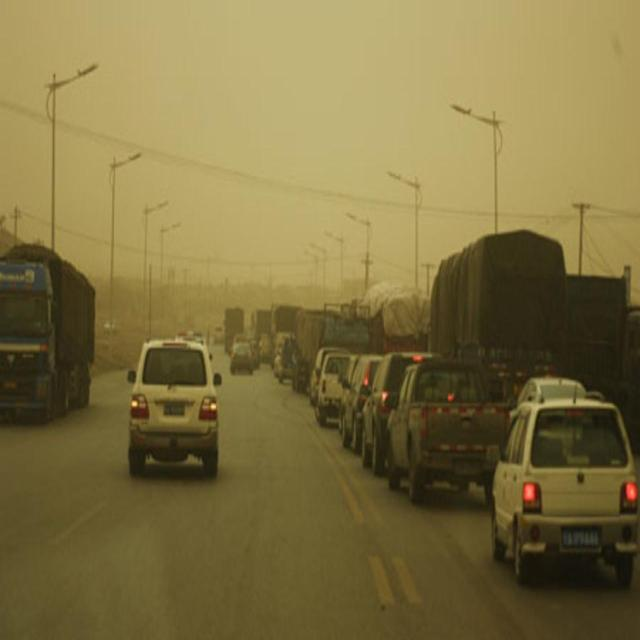Car: (493, 380, 628, 608), (120, 322, 222, 491), (403, 368, 494, 483), (358, 344, 418, 466), (346, 349, 388, 455), (319, 341, 356, 428), (225, 333, 258, 390)
Truck: (429, 225, 586, 436), (0, 225, 100, 428), (566, 180, 630, 380), (363, 270, 424, 370), (213, 290, 246, 341)
